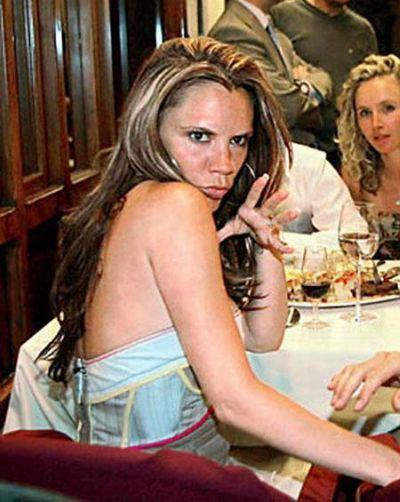Drunk: (155, 79, 253, 214)
